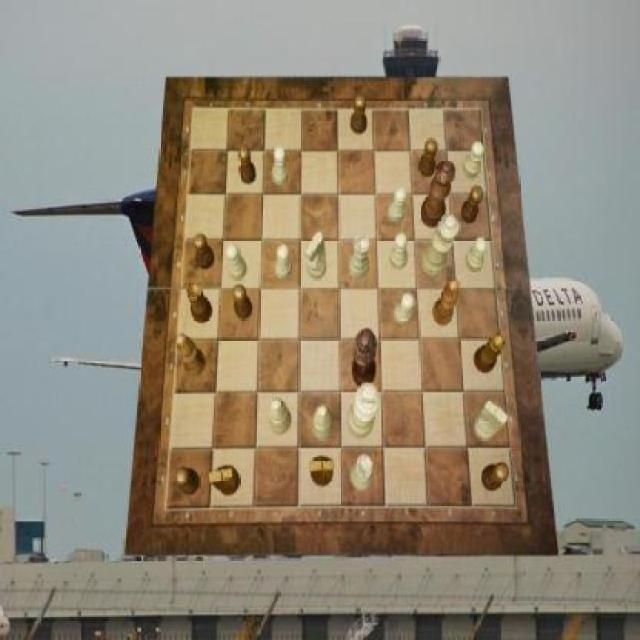bishop: (432, 280, 460, 326), (176, 334, 206, 376)
black-bishop: (352, 328, 377, 388)
black-king: (209, 464, 240, 496), (310, 457, 334, 488)
black-knight: (460, 186, 483, 224), (418, 138, 438, 178), (482, 463, 509, 491), (193, 234, 214, 270), (234, 284, 254, 320), (350, 94, 368, 134), (175, 468, 200, 495), (239, 146, 256, 185)
black-pawn: (420, 160, 456, 228)
black-queen: (474, 334, 506, 374), (186, 281, 212, 324)
black-rook: (270, 397, 292, 435), (312, 404, 335, 440)
white-bishop: (348, 382, 380, 438)
white-king: (474, 400, 509, 442), (306, 232, 327, 280)
white-knight: (463, 142, 485, 179), (466, 237, 489, 271), (228, 243, 248, 281), (388, 188, 408, 222), (275, 244, 293, 280), (391, 232, 408, 270), (394, 294, 414, 326), (272, 146, 288, 185)
white-pawn: (422, 214, 461, 278)
white-queen: (349, 236, 372, 280), (351, 454, 374, 491)
